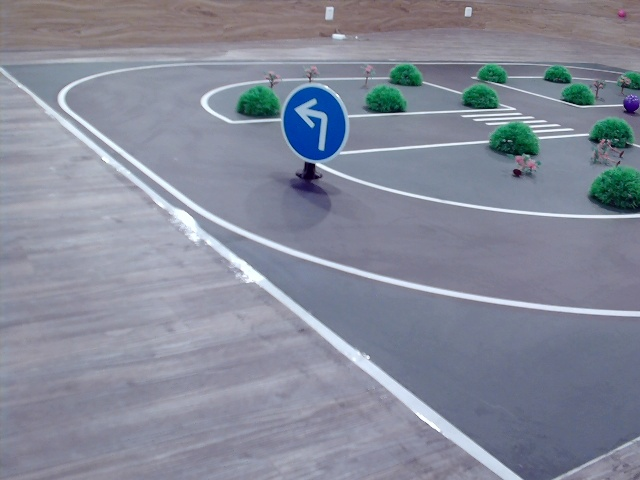turn_left: (289, 95, 335, 153)
